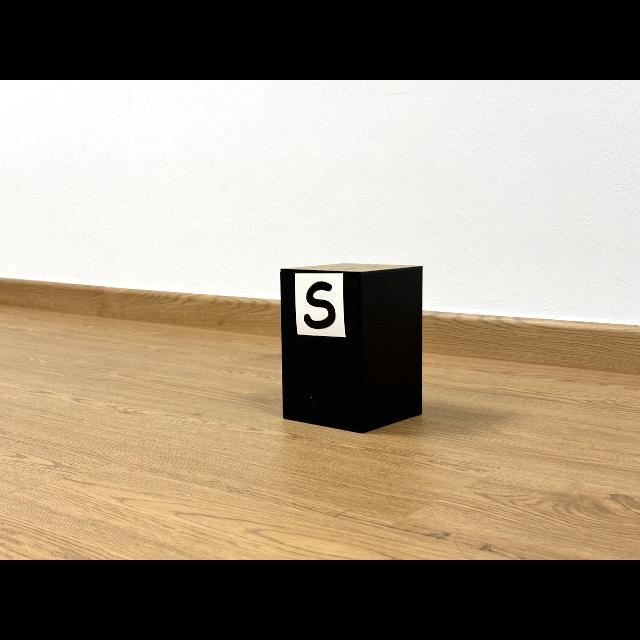S: (304, 281, 336, 329)
